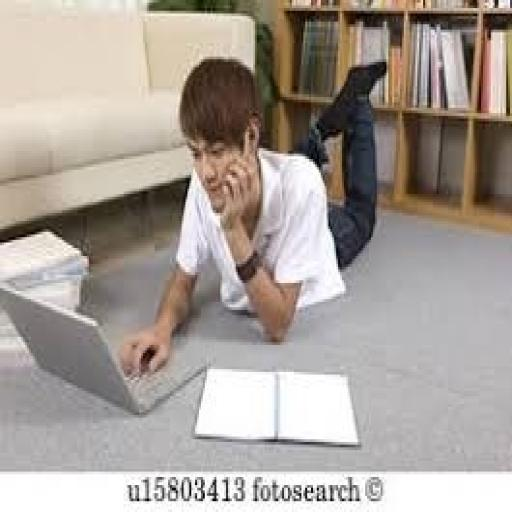using_laptop: (0, 280, 207, 415)
